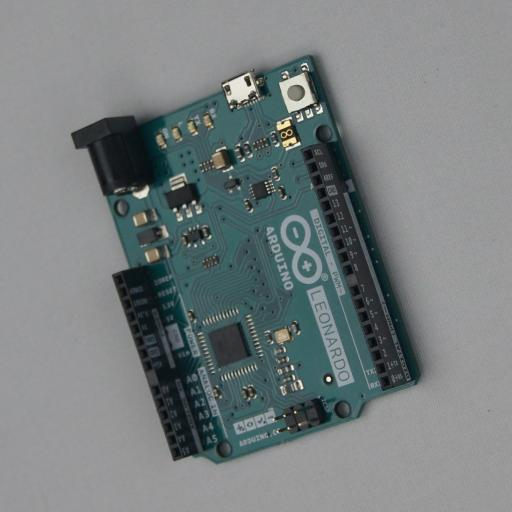Arduino Leonardo: (71, 55, 426, 464)
